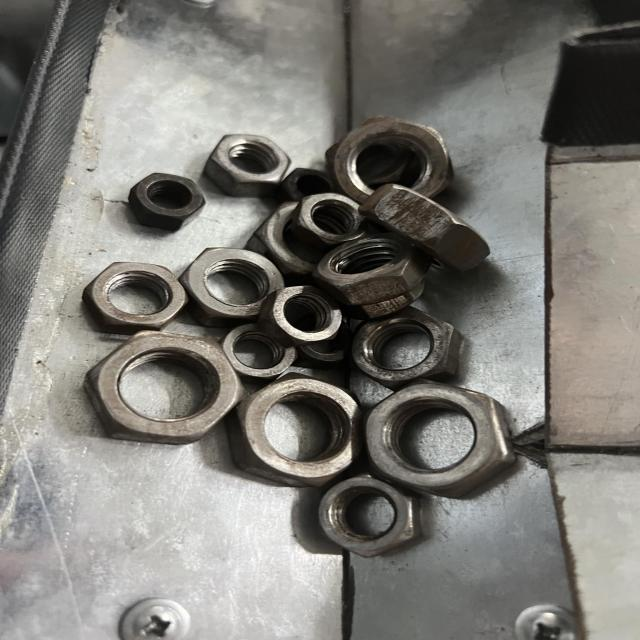nut: (87, 330, 245, 444), (369, 383, 518, 498), (314, 474, 425, 558), (81, 259, 187, 332), (208, 134, 291, 193), (130, 172, 208, 232)
